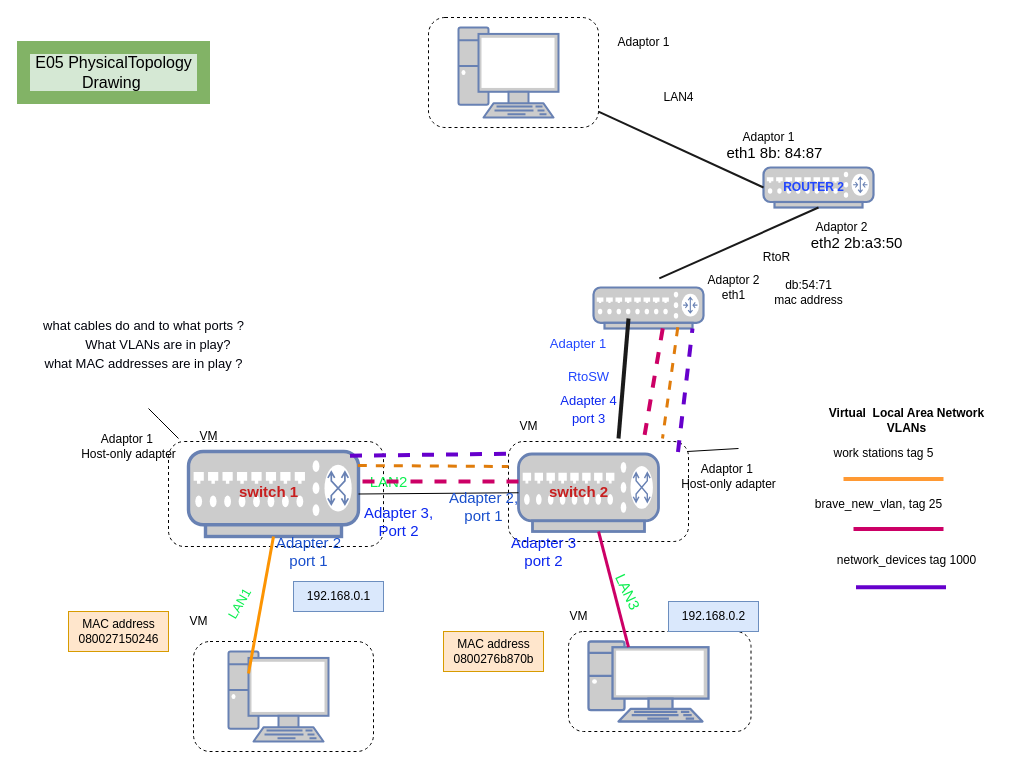
The diagram is 1013 pixels wide and 769 high, and some of its shapes have lost their labels. Here are the shapes that lost their labels. From the top down, the centre of each, then its label:
(508,72): Lubuntu 3
(648,307): ROUTER (vyos)
(278,696): Lubuntu 1
(648,681): Lubuntu 2
